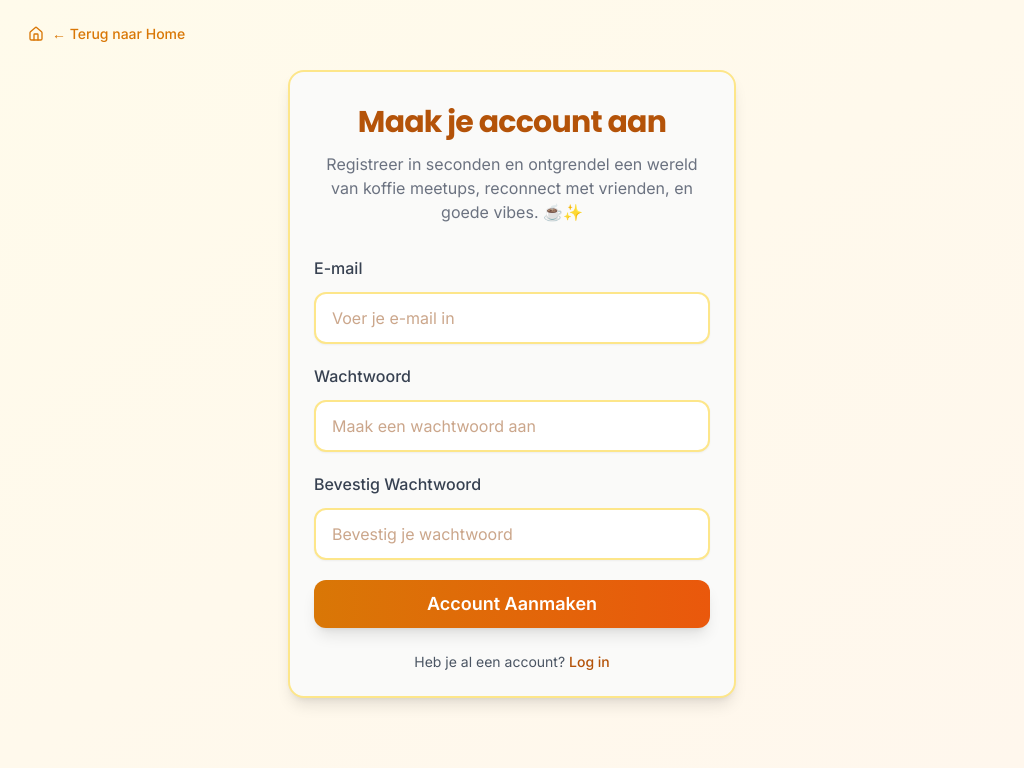
Test: SignUpPage › shows loading state during sign up
Type "test@example.com" into the field labelled "E-mail" at (512, 318), box [314,292,710,344]
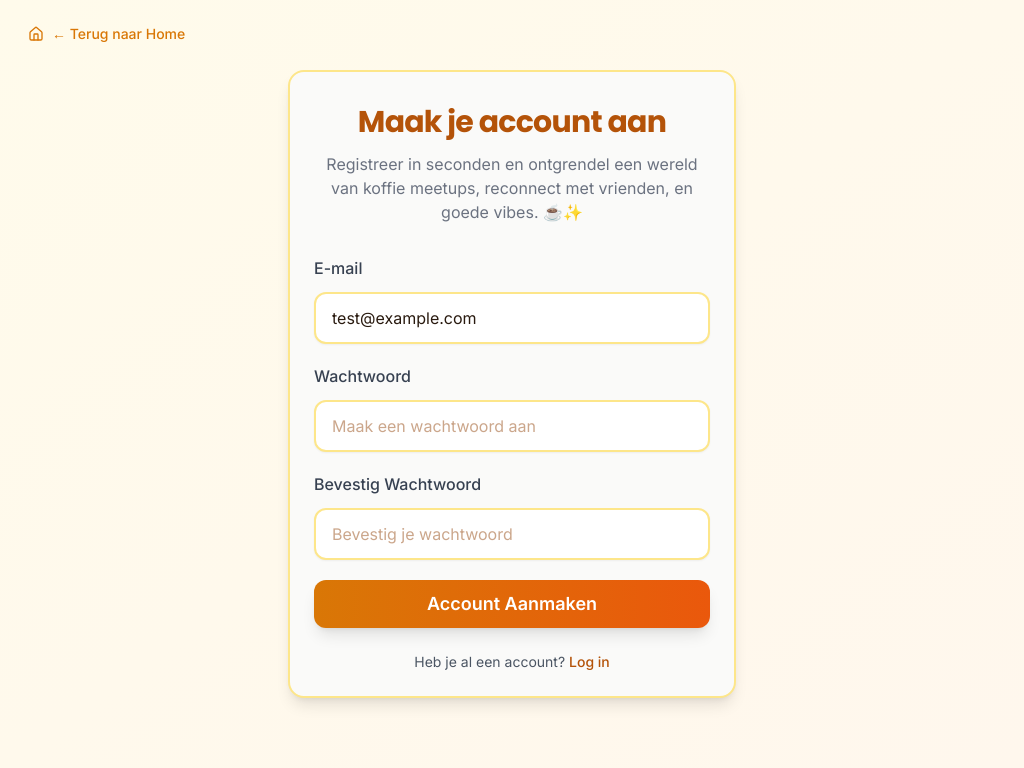
Type "password123" into the password field labelled "Wachtwoord" at (512, 426), box [314,400,710,452]
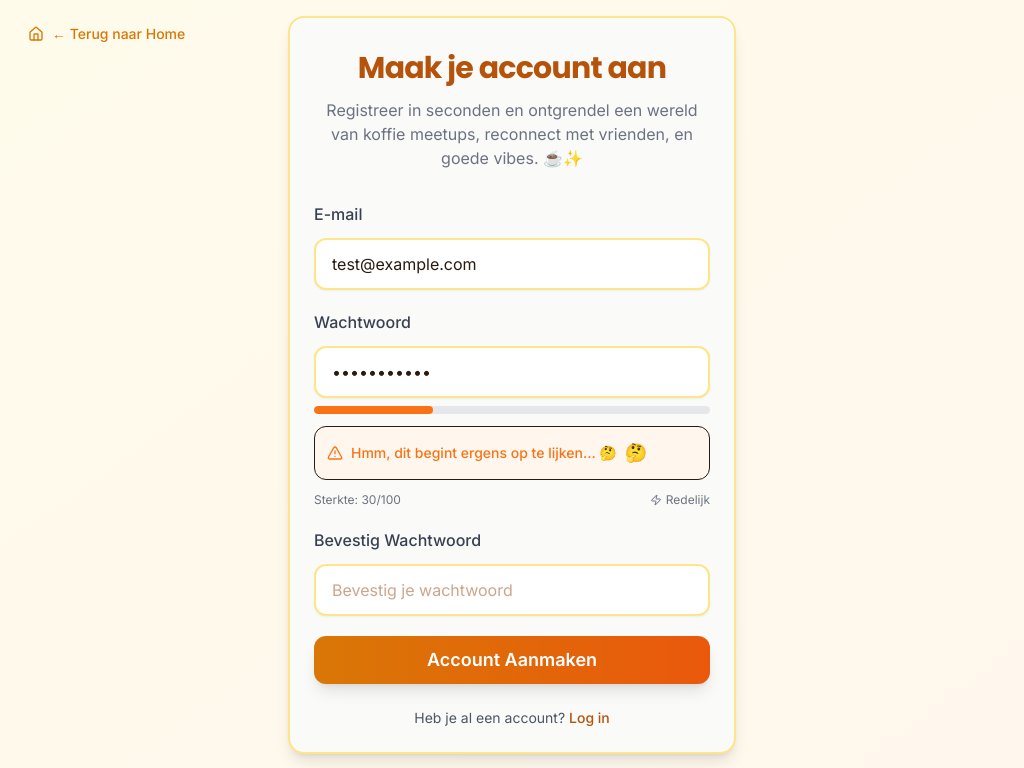
Type "password123" into the password field labelled "Bevestig Wachtwoord" at (512, 590), box [314,564,710,616]
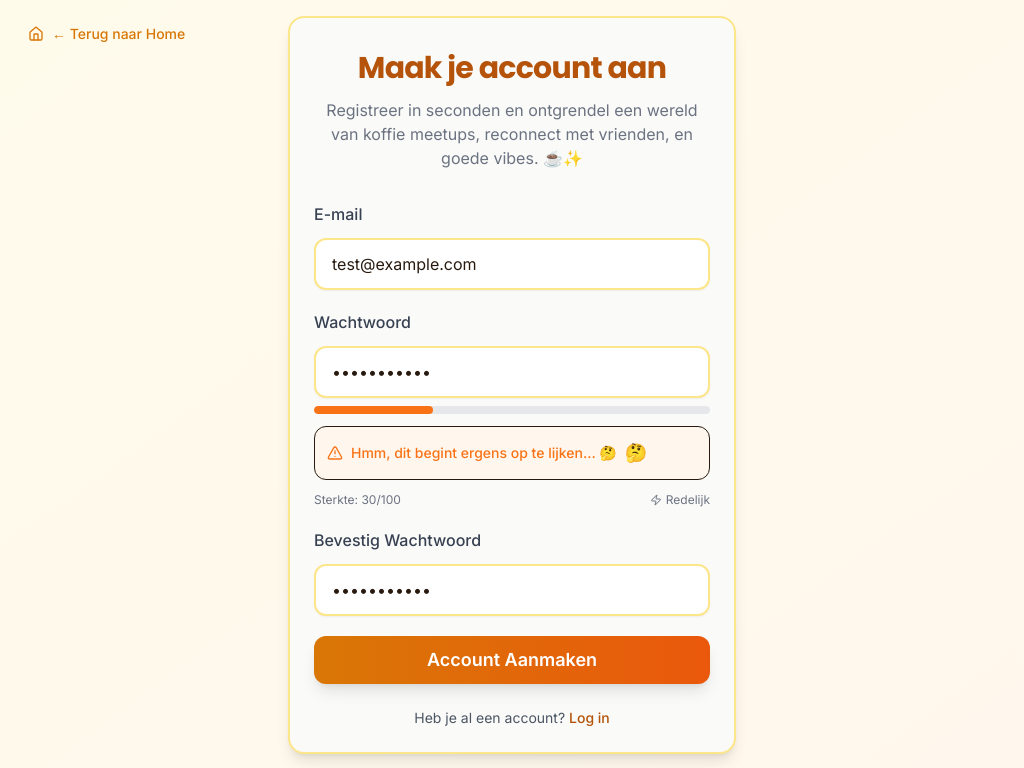
Click the button "Account Aanmaken" at (512, 660), box [314,636,710,684]
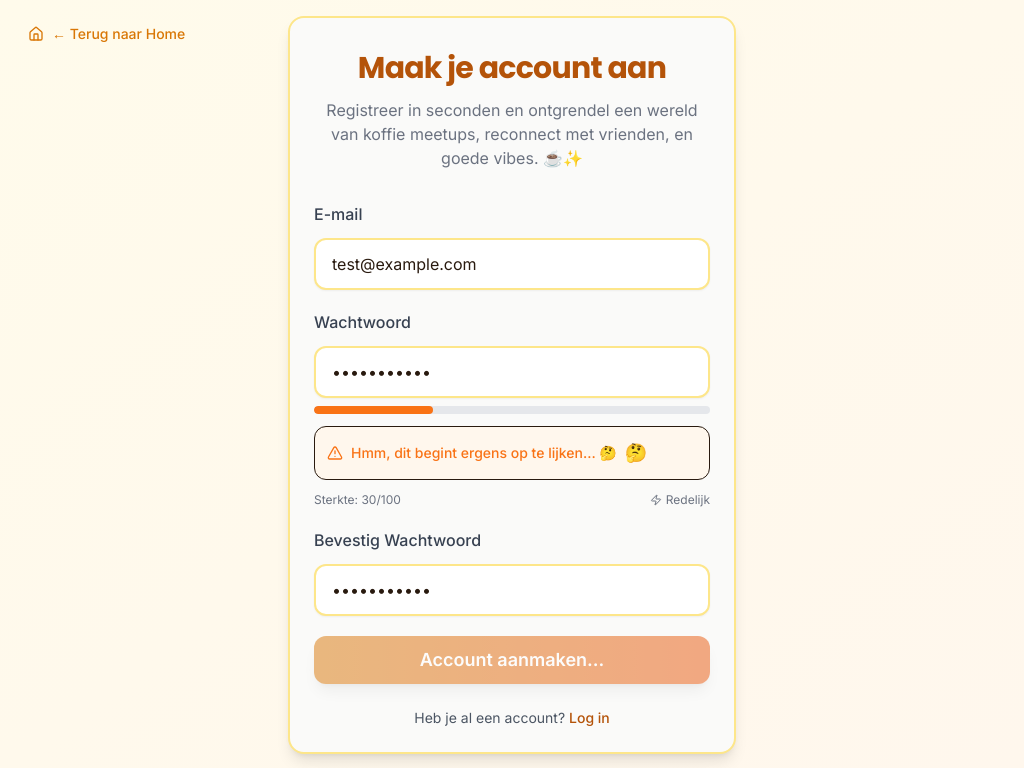
Check: the button "Account aanmaken..." is disabled, box [314,636,710,684]
